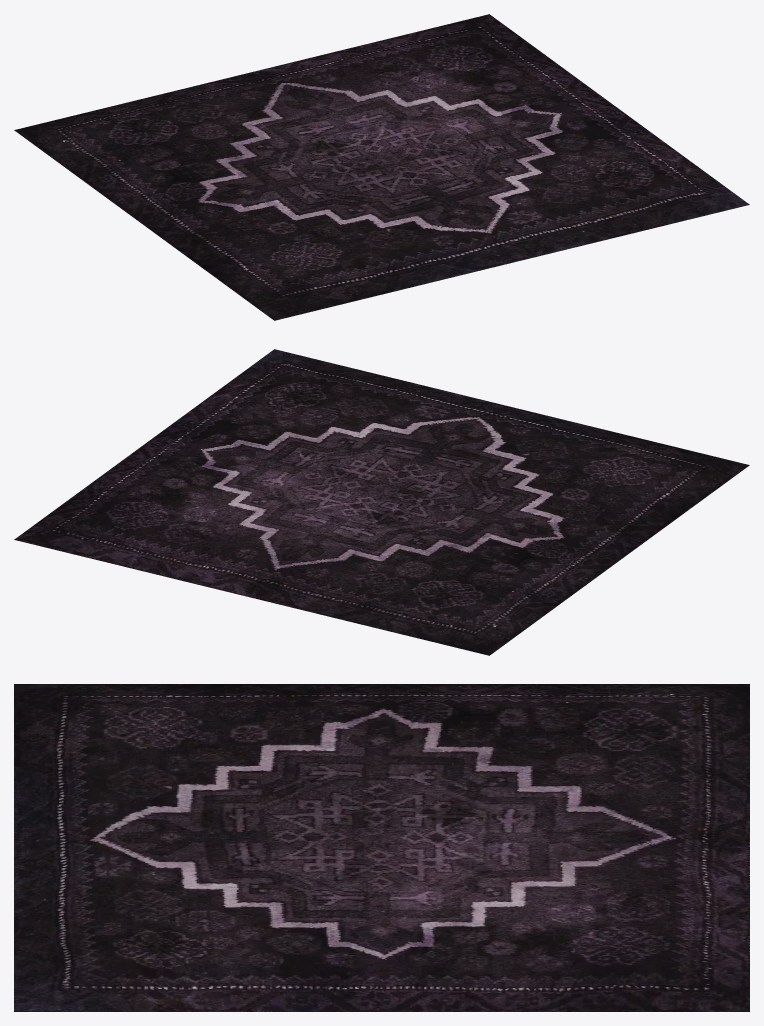
File: KM_VOB_CARPET_08.glb
3 renders of one model, top to bottom at view 1: azimuth 30°, elevation 25°; view 2: azimuth 150°, elevation 25°; view 3: azimuth 270°, elevation 25°, orthographic. The views are drawn at different scales.
Parts seen in each view (by area): view 1: Mesh; view 2: Mesh; view 3: Mesh.
Boxes of the visible parts, x1,y1,x2,y2 form: Mesh: (14,14,749,320); Mesh: (14,349,749,655); Mesh: (14,684,749,1011).
Bounding box in the file's own units: 2.63 × 0.05 × 2.5.
Materials: 1 (1 with a texture image).
